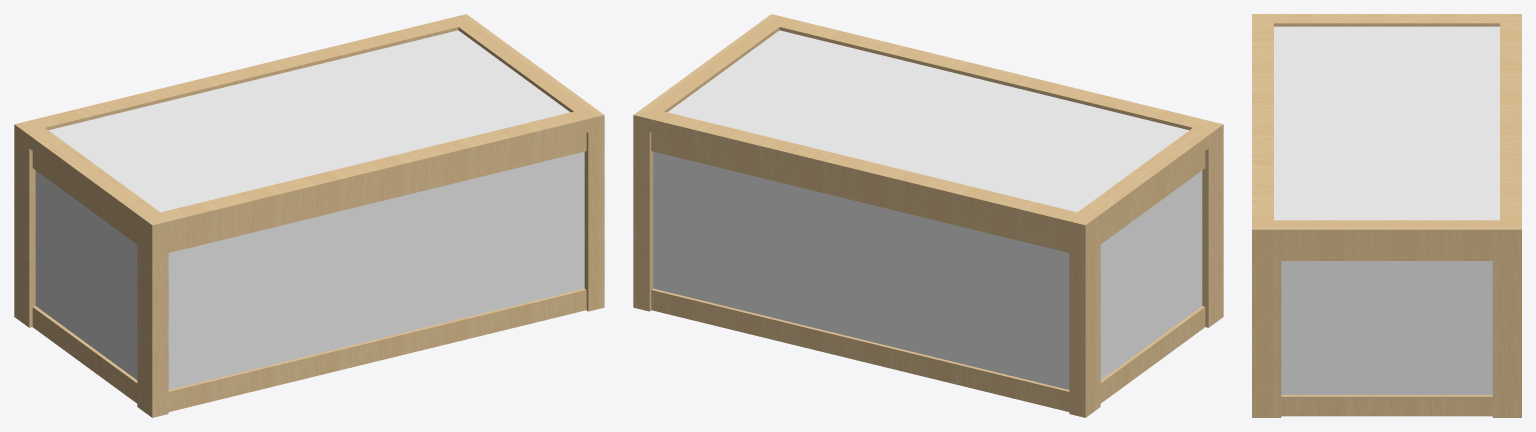
File: ikea_toy_chest.dae
The picture shows the model from 3 angles, left to right: view 1: azimuth 30°, elevation 25°; view 2: azimuth 150°, elevation 25°; view 3: azimuth 270°, elevation 25°; orthographic projection. The views are drawn at different scales.
Visible parts, largest first — view 1: SketchUp (×4); view 2: SketchUp (×4); view 3: SketchUp (×3).
Part boxes in pixels (x1=…): SketchUp (×4): x1=14, y1=14, x2=604, y2=417; SketchUp (×4): x1=633, y1=14, x2=1223, y2=417; SketchUp (×3): x1=1252, y1=14, x2=1521, y2=417.
Size of the model in its own units: 27.56 by 14.57 by 11.22.
Materials: 3 (2 with a texture image).
